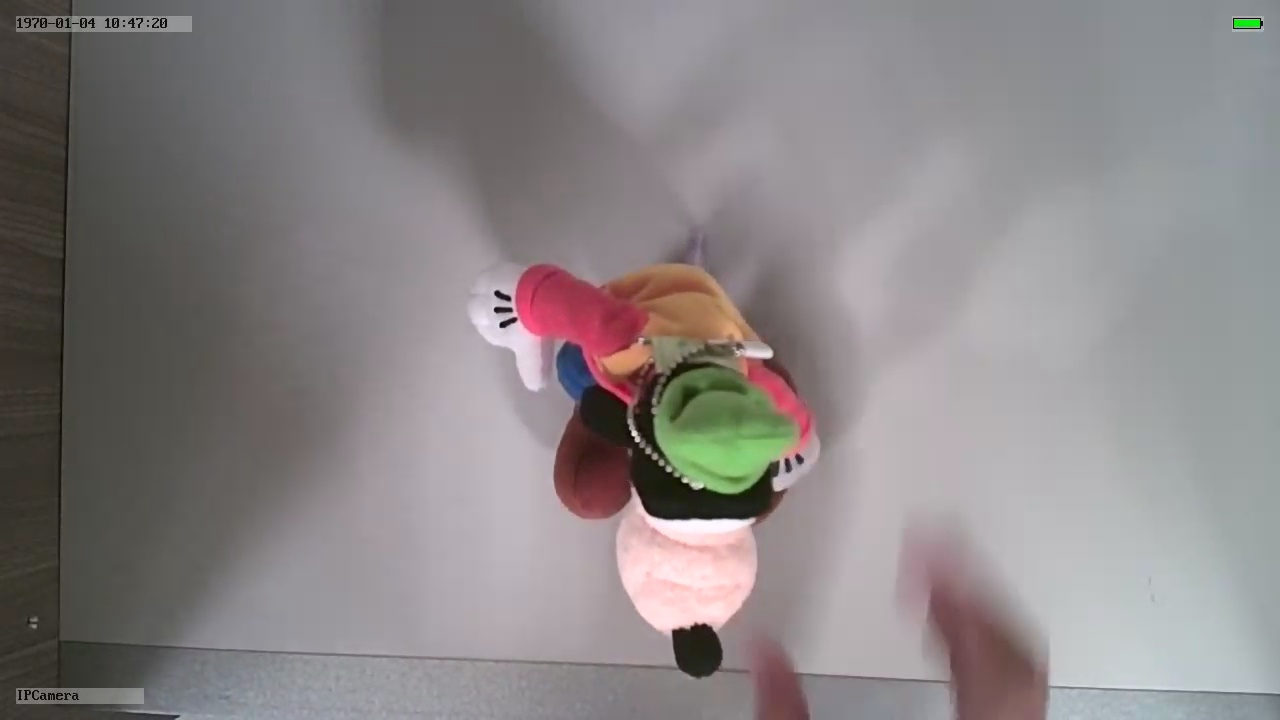goofy: (463, 259, 816, 685)
